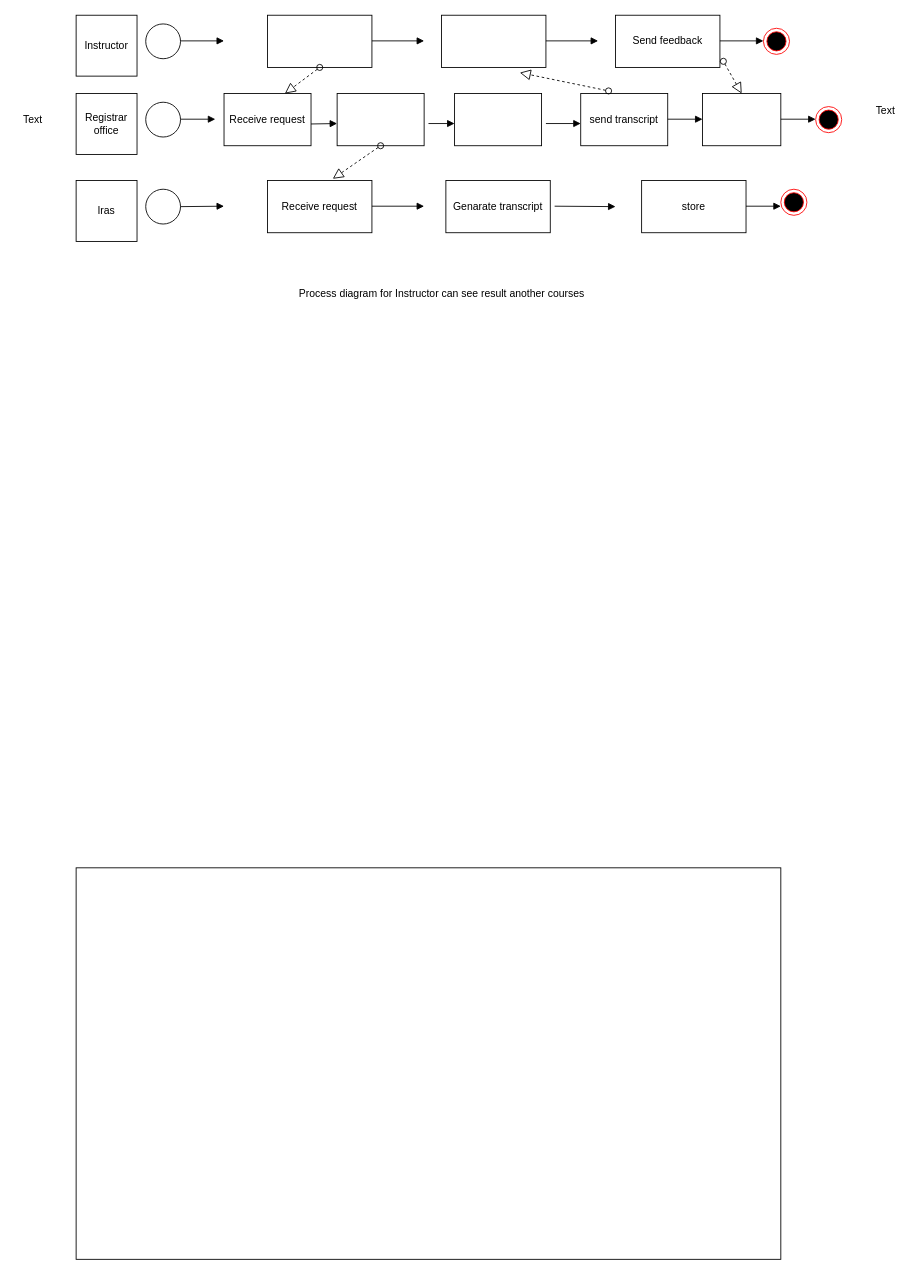
Image size: 917x1275. Some labels were removed from this diagram. The shapes that lost their labels are listed below. From the top down, each one's box as (x1, y1, x2, y2) in pixels, then its label:
(267, 14, 372, 67): Request to see transcript
(441, 14, 546, 67): Receive the student transcript
(336, 93, 424, 146): Send request generate transcript
(454, 93, 542, 146): Receive transcript
(702, 93, 781, 146): Receive
